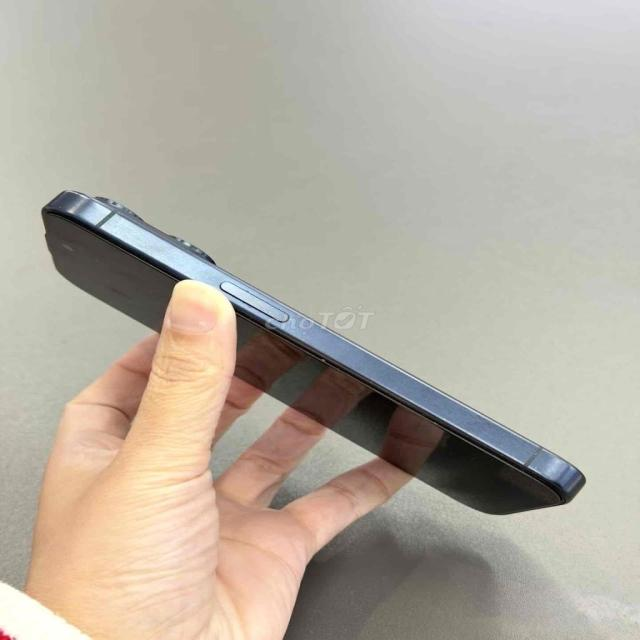gen_15: (22, 174, 610, 552)
